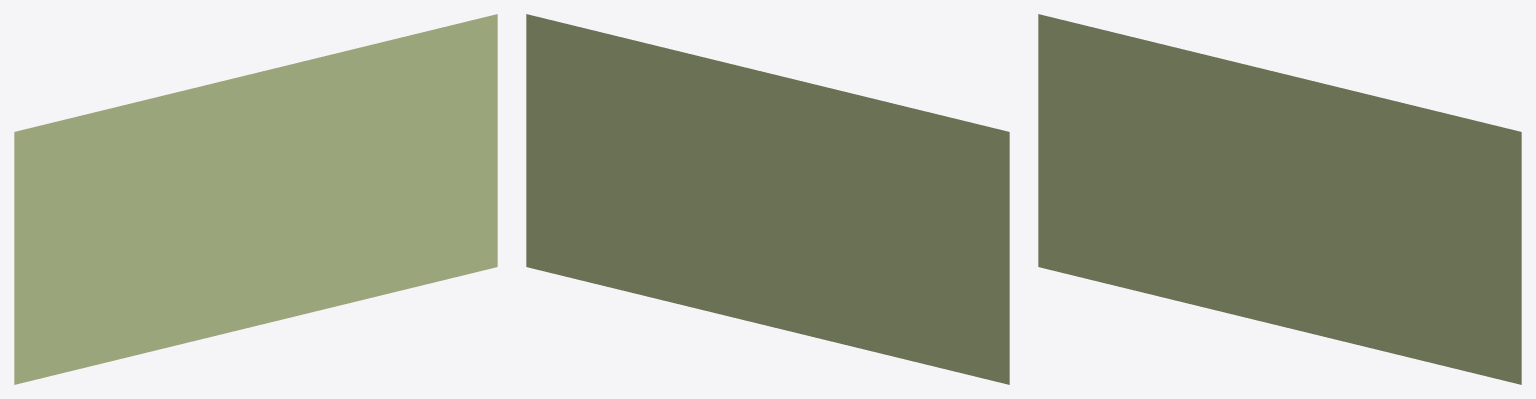
The model's file is HUD.obj.
3 views of the same model, side by side, from view 1: azimuth 30°, elevation 25°; view 2: azimuth 150°, elevation 25°; view 3: azimuth 330°, elevation 25° (orthographic).
Visible parts, largest first — view 1: Plane001; view 2: Plane001; view 3: Plane001.
Boxes of the visible parts, x1=… form: Plane001: x1=14, y1=14, x2=497, y2=384; Plane001: x1=526, y1=14, x2=1009, y2=384; Plane001: x1=1038, y1=14, x2=1521, y2=384.
Size of the model in its own units: 200 by 100 by 0.
